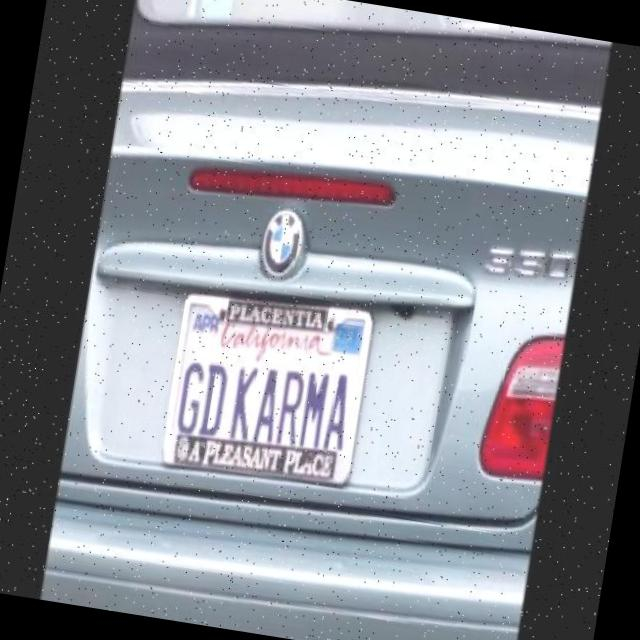LicensePlate: (160, 284, 374, 488)
